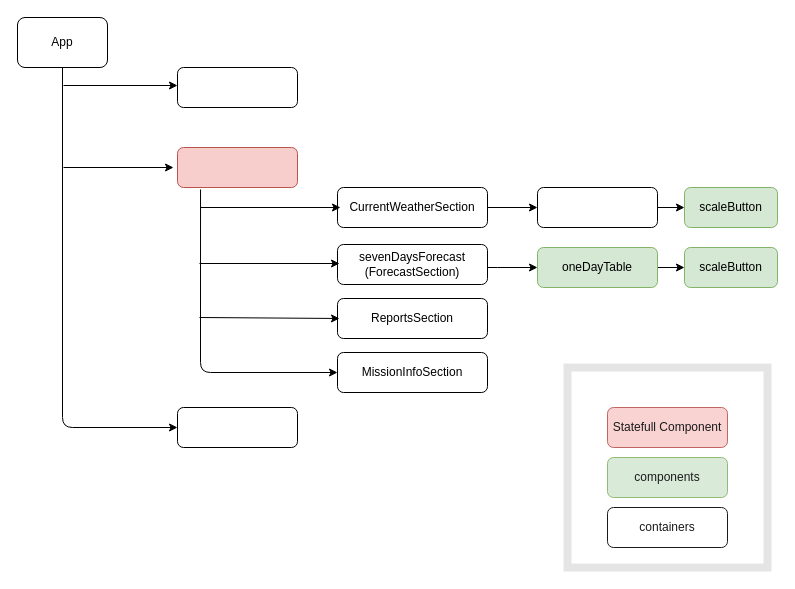
This 795x589 diagram has some shape labels left out. Here are the shapes that lost their labels. From the top down, the box of each, then its label:
(176, 66, 298, 108): Navbar
(176, 146, 298, 188): MainWeatherSection
(536, 186, 658, 228): CurrentWeatherTable
(176, 406, 298, 448): Footer
(563, 363, 771, 571): Color description
